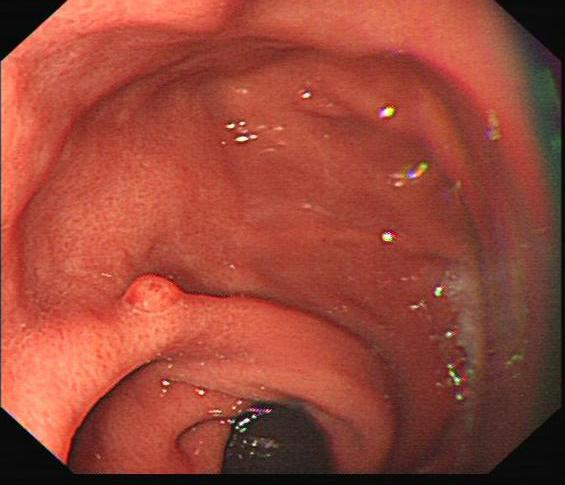Polyp: (107, 264, 197, 332)
